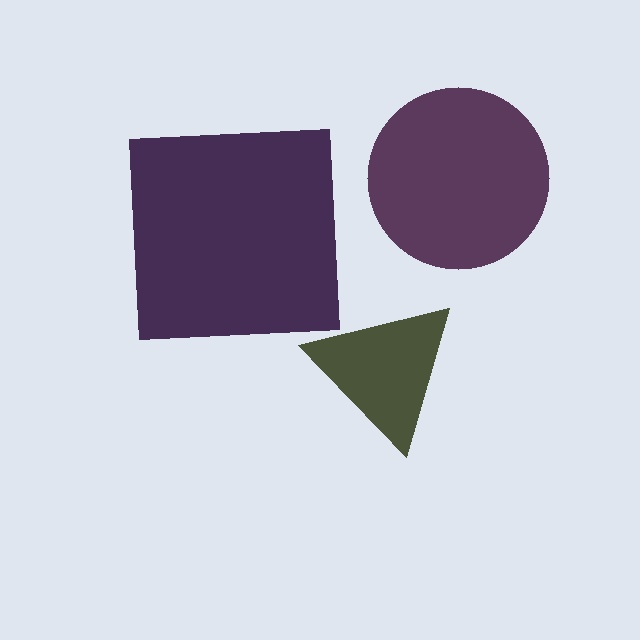circle: (366, 86, 550, 270)
square: (128, 128, 340, 340)
triangle: (298, 307, 450, 457)
